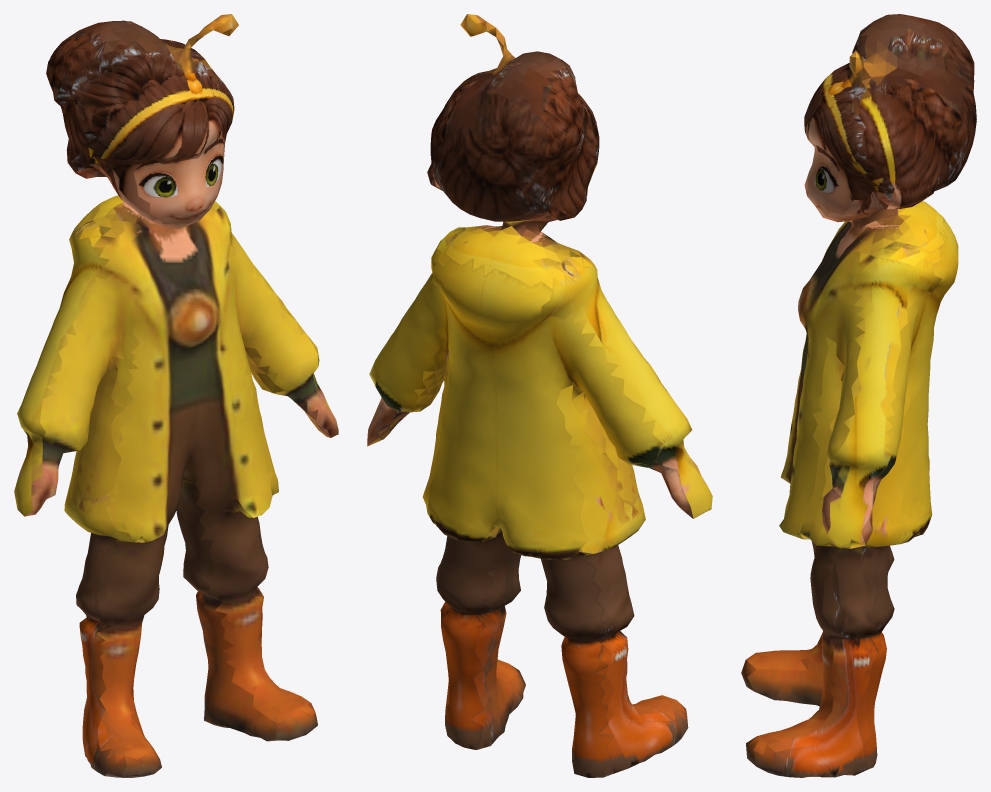
The model's file is harvest-glow-toon-x5.glb.
3 renders of one model, left to right at view 1: azimuth 30°, elevation 25°; view 2: azimuth 150°, elevation 25°; view 3: azimuth 270°, elevation 25°, orthographic. The views are drawn at different scales.
Parts seen in each view (by area): view 1: world; view 2: world; view 3: world.
Boxes of the visible parts, x1=… form: world: x1=14, y1=14, x2=338, y2=777; world: x1=367, y1=14, x2=712, y2=777; world: x1=741, y1=14, x2=976, y2=777.
Bounding box in the file's own units: 2.23 × 4.7 × 1.41.
Materials: 1 (1 with a texture image).
